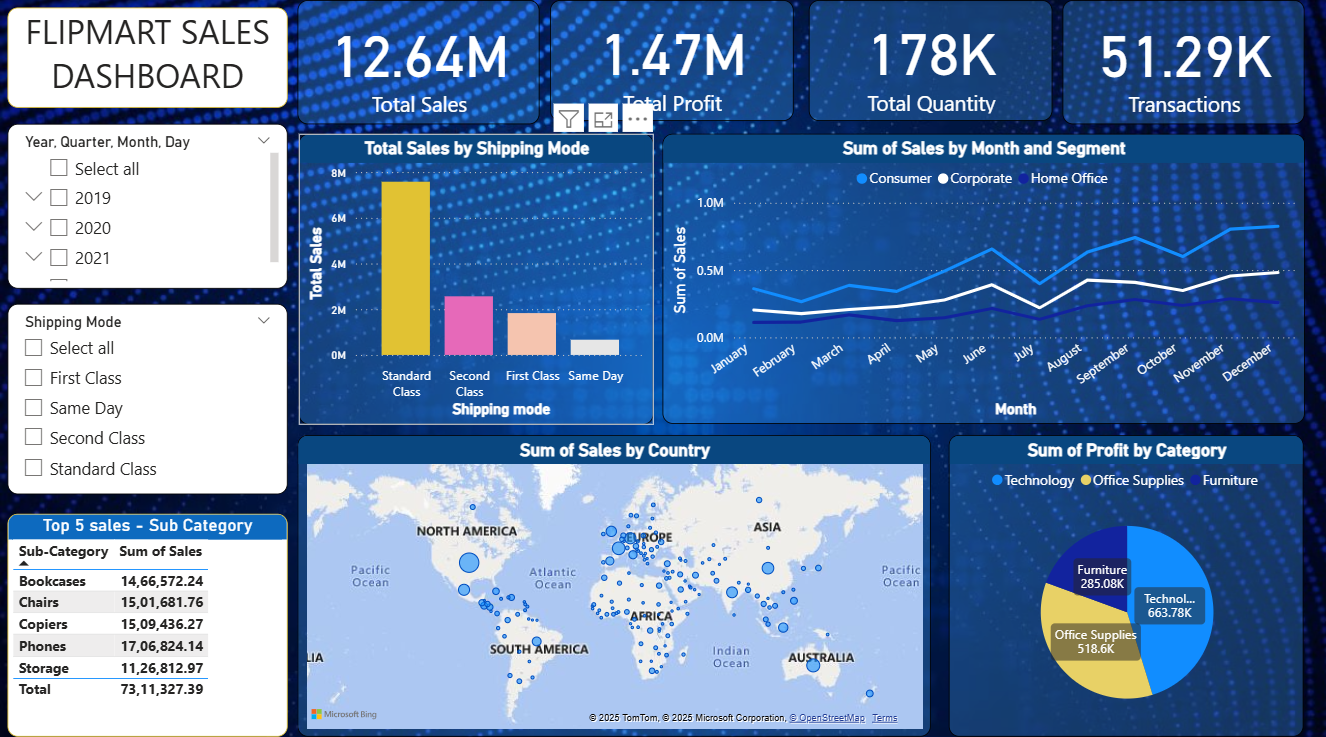

What the dashboard file says about the page in this screenshot:
{"tool":"powerbi","page":{"name":"Page 1","canvas":[1280,720],"ordinal":0},"visuals":[{"type":"card","fields":{"Values":["Sum(Sales.Sales)"]},"box":[287.3,0,233.8,119.7],"z":0},{"type":"card","fields":{"Values":["Sum(Sales.Profit)"]},"box":[531,0,235.2,116.9],"z":1000},{"type":"card","fields":{"Values":["Sum(Sales.Quantity)"]},"box":[780.3,0,235.2,116.9],"z":2000},{"type":"card","fields":{"Values":["CountNonNull(Sales.Order ID)"]},"box":[1025.4,0,233.8,119.7],"z":3000},{"type":"clusteredColumnChart","title":"Total Sales by Shipping Mode","fields":{"Category":["Sales.Shipping Mode"],"Y":["Sum(Sales.Sales)"]},"box":[287.8,129.3,342.7,280.5],"z":4000},{"type":"pieChart","fields":{"Category":["Sales.Category"],"Y":["Sum(Sales.Profit)"]},"box":[915.9,419.5,342.7,291.5],"z":5000},{"type":"lineChart","fields":{"Y":["Sum(Sales.Sales)"],"Category":["Sales.Order Date.Variation.Date Hierarchy.Month"],"Series":["Sales.Segment"]},"box":[639.4,129.6,619.7,280.3],"z":6000},{"type":"map","fields":{"Size":["Sum(Sales.Sales)"],"Category":["Sales.Country"]},"box":[287.1,420,611.4,291.4],"z":7000},{"type":"tableEx","title":"Top 5 sales - Sub Category","fields":{"Values":["Sales.Sub-Category","Sum(Sales.Sales)"]},"box":[6.9,495.4,270.3,215.4],"z":8000},{"type":"slicer","fields":{"Values":["Sales.Shipping Mode"]},"box":[6.9,293.7,270.3,183.9],"z":9000},{"type":"slicer","fields":{"Values":["Sales.Order Date.Variation.Date Hierarchy.Year","Sales.Order Date.Variation.Date Hierarchy.Quarter","Sales.Order Date.Variation.Date Hierarchy.Month","Sales.Order Date.Variation.Date Hierarchy.Day"]},"box":[6.9,119.4,270.3,159.2],"z":10000},{"type":"textbox","box":[7.1,7.1,270,97.1],"z":11000}]}

Visuals, with their boxes in screenshot pixels (x1, y1, x2, y2), scaled from the page's 1280x720 canvas onto the 1326x737 screenshot:
card - Sum(Sales.Sales): box(298, 0, 540, 123)
card - Sum(Sales.Profit): box(550, 0, 794, 120)
card - Sum(Sales.Quantity): box(808, 0, 1052, 120)
card - CountNonNull(Sales.Order ID): box(1062, 0, 1304, 123)
"Total Sales by Shipping Mode" clusteredColumnChart: box(298, 132, 653, 419)
pieChart - Sales.Category x Sum(Sales.Profit): box(949, 429, 1304, 728)
lineChart - Sum(Sales.Sales) x Sales.Order Date.Variation.Date Hierarchy.Month: box(662, 133, 1304, 420)
map - Sum(Sales.Sales) x Sales.Country: box(297, 430, 931, 728)
"Top 5 sales - Sub Category" tableEx: box(7, 507, 287, 728)
slicer - Sales.Shipping Mode: box(7, 301, 287, 489)
slicer - Sales.Order Date.Variation.Date Hierarchy.Year x Sales.Order Date.Variation.Date Hierarchy.Quarter: box(7, 122, 287, 285)
textbox: box(7, 7, 287, 107)
